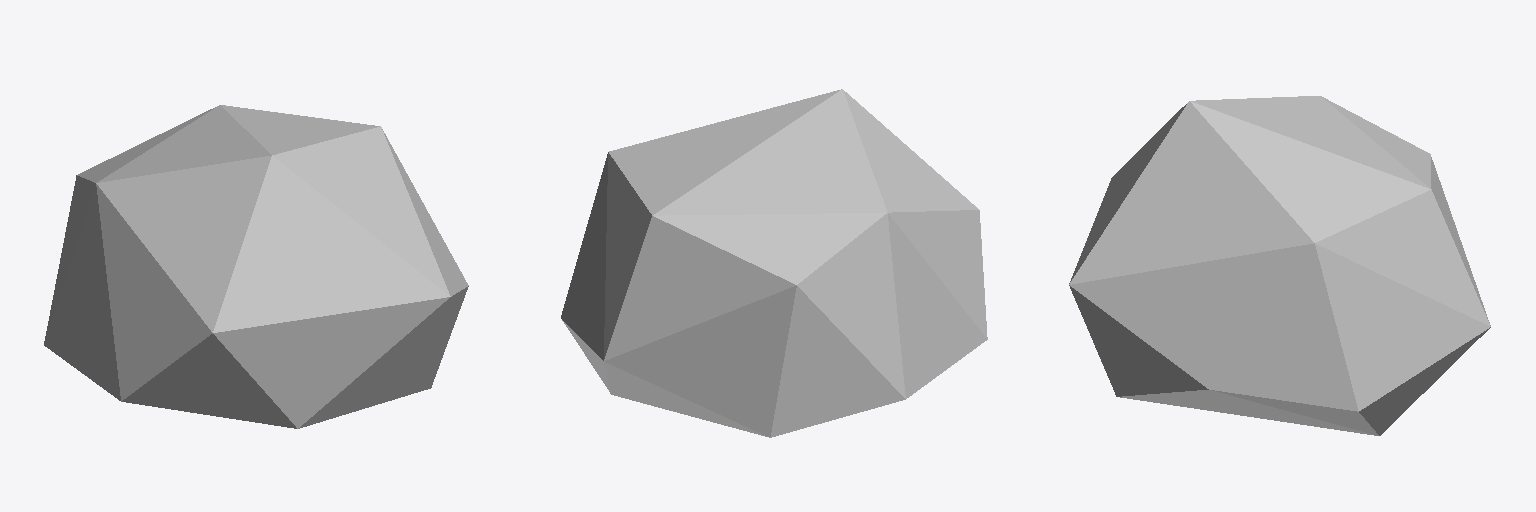
The model's file is Rock_3_Snow.obj.
The picture shows the model from 3 angles: view 1: azimuth 30°, elevation 25°; view 2: azimuth 150°, elevation 25°; view 3: azimuth 270°, elevation 25°; orthographic projection.
Visible parts, largest first — view 1: Rock_3_Snow_Icosphere.014; view 2: Rock_3_Snow_Icosphere.014; view 3: Rock_3_Snow_Icosphere.014.
Boxes of the visible parts, box(x1,y1,x2,y2) form: Rock_3_Snow_Icosphere.014: box(44, 105, 468, 428); Rock_3_Snow_Icosphere.014: box(561, 89, 987, 437); Rock_3_Snow_Icosphere.014: box(1069, 96, 1490, 435).
Bounding box in the file's own units: 0.8531 × 0.6482 × 0.88.